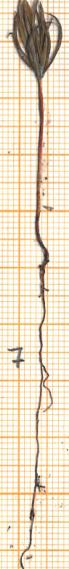flower: (0, 0, 69, 79)
root: (16, 209, 58, 569)
stem: (26, 79, 51, 211)
